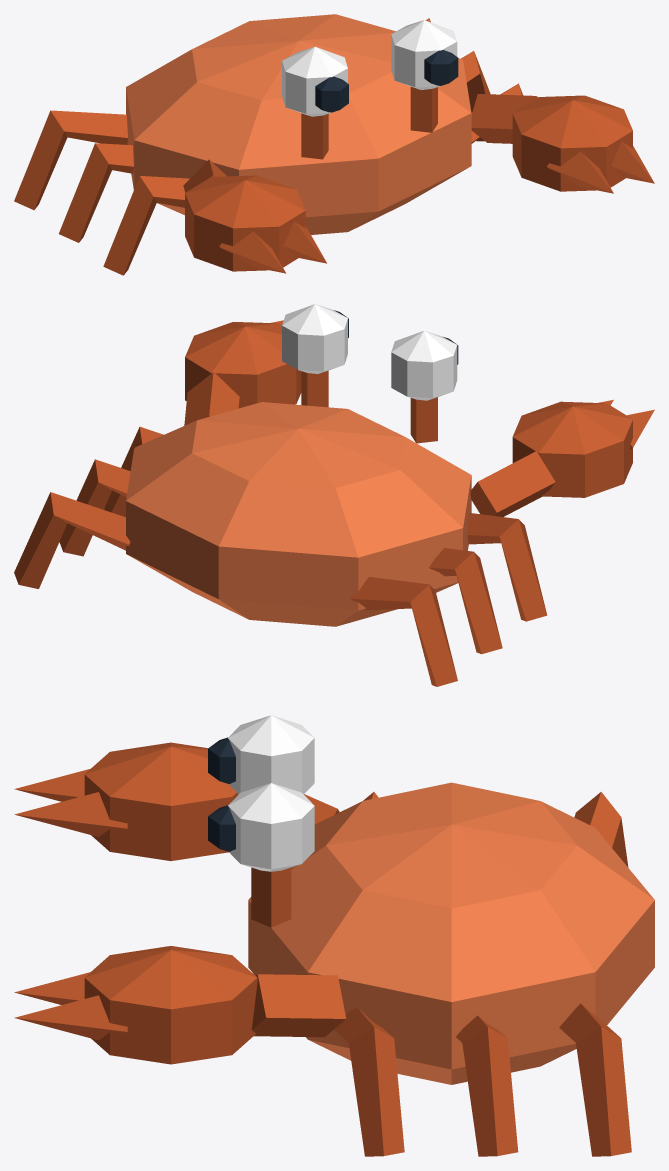
The model's file is crab.glb.
3 views of the same model, one above another, from view 1: azimuth 30°, elevation 25°; view 2: azimuth 150°, elevation 25°; view 3: azimuth 270°, elevation 25° (orthographic). The views are drawn at different scales.
Visible parts, largest first — view 1: Body, Claw.L, Legs, Claw.R; view 2: Body, Legs, Claw.R, Claw.L; view 3: Body, Claw.L, Legs, Claw.R.
Boxes of the visible parts, bbox=[...] form: Body: bbox=[126, 14, 471, 234]; Claw.L: bbox=[471, 94, 654, 193]; Legs: bbox=[14, 18, 522, 275]; Claw.R: bbox=[183, 159, 326, 273]; Body: bbox=[126, 304, 471, 626]; Legs: bbox=[14, 426, 547, 686]; Claw.R: bbox=[470, 399, 654, 516]; Claw.L: bbox=[184, 320, 301, 425]; Body: bbox=[208, 715, 654, 1084]; Claw.L: bbox=[14, 946, 346, 1064]; Legs: bbox=[334, 792, 631, 1156]; Claw.R: bbox=[14, 742, 339, 860].
Size of the model in its own units: 0.9762 by 0.485 by 0.9593.
